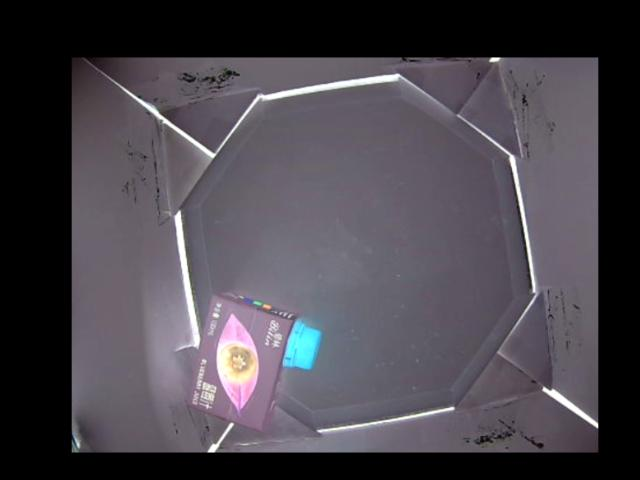Bottle: (187, 289, 320, 433)
